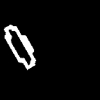chain: (4, 25, 35, 69)
